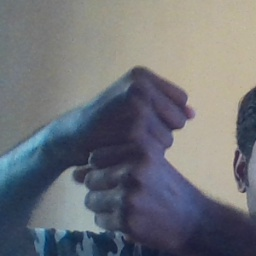G: (69, 61, 199, 238)
